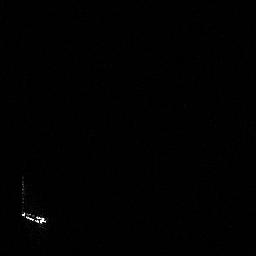ship: (18, 208, 48, 226)
